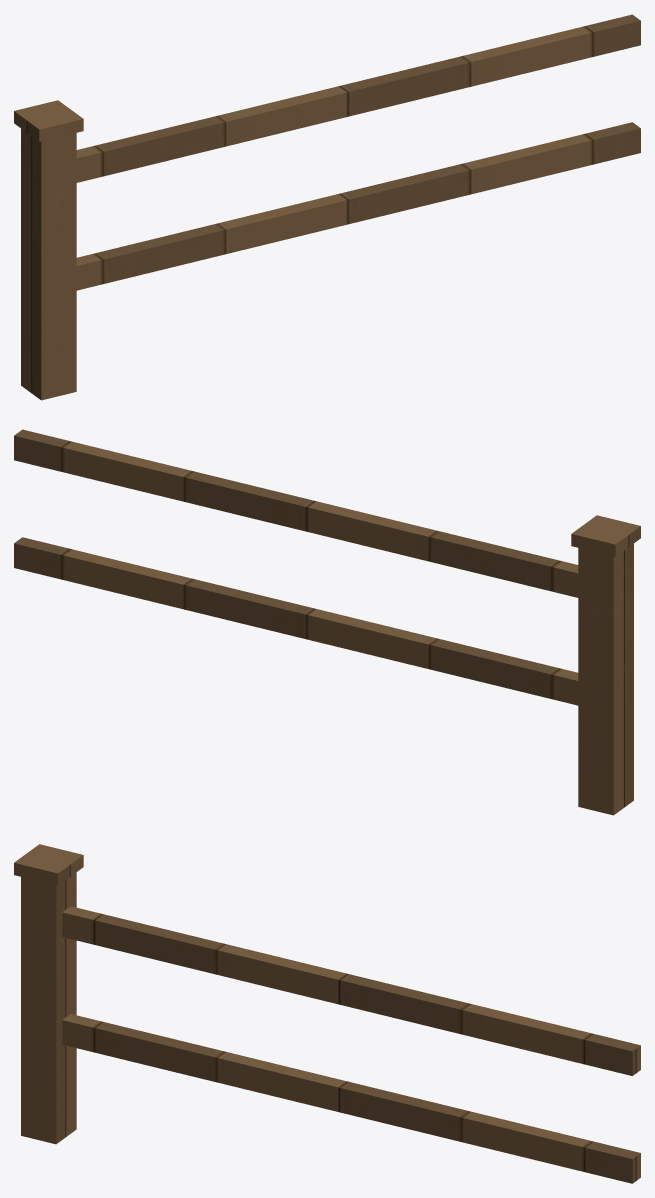
File: prp_plotfence_module_a_LOD2.glb
3 renders of one model, top to bottom at view 1: azimuth 30°, elevation 25°; view 2: azimuth 150°, elevation 25°; view 3: azimuth 330°, elevation 25°, orthographic.
Parts seen in each view (by area): view 1: prp_plotfence_module_a_wood; view 2: prp_plotfence_module_a_wood; view 3: prp_plotfence_module_a_wood.
Part boxes in pixels (bbox=[...]): prp_plotfence_module_a_wood: bbox=[14, 14, 640, 400]; prp_plotfence_module_a_wood: bbox=[14, 429, 640, 815]; prp_plotfence_module_a_wood: bbox=[14, 844, 640, 1183].
Size of the model in its own units: 2.08 by 0.89 by 0.15.
1 material, 1 textured.
